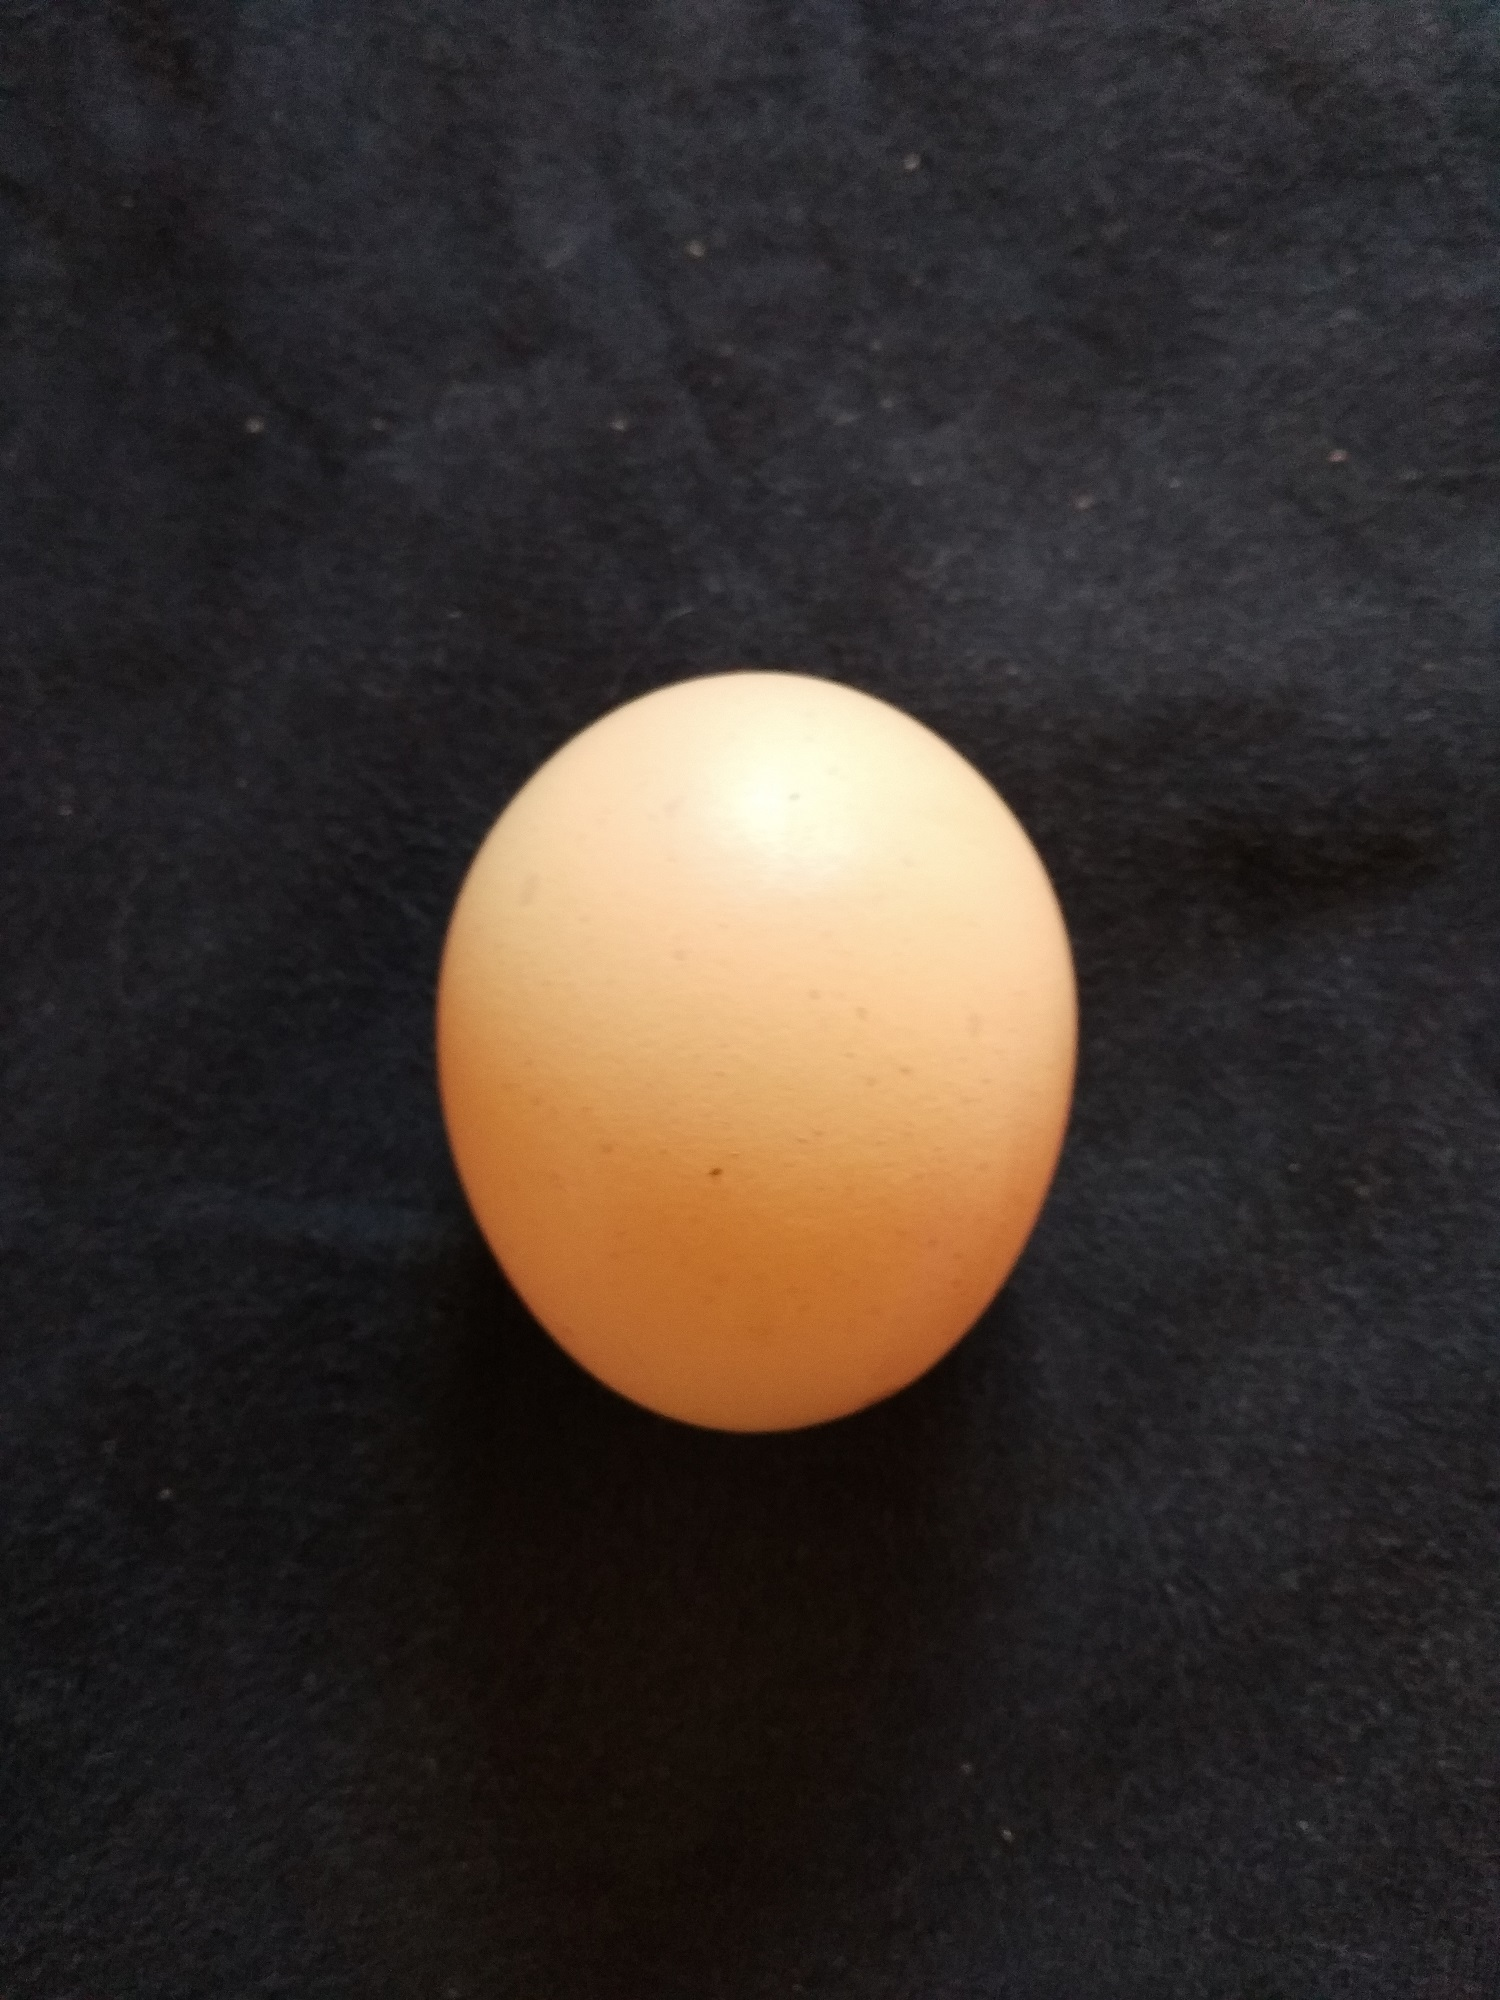Female: (425, 661, 1081, 1438)
